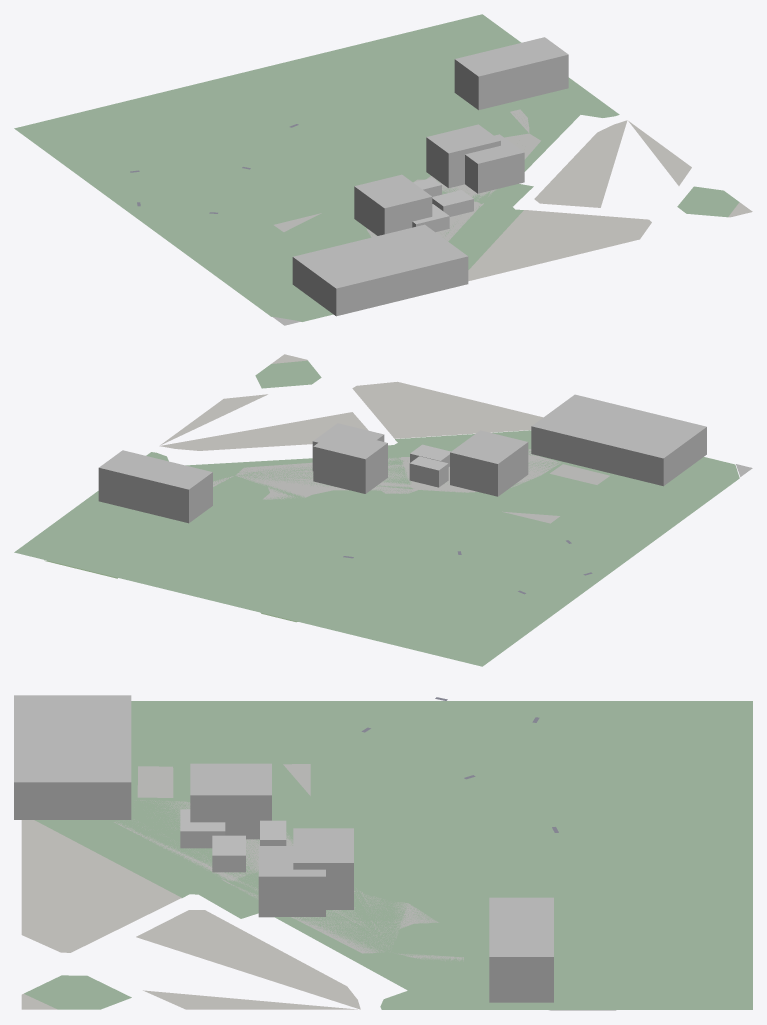
Rendered from 104_86_mid.glb.
3 views of the same model, one above another, from view 1: azimuth 30°, elevation 25°; view 2: azimuth 150°, elevation 25°; view 3: azimuth 270°, elevation 25° (orthographic). The views are drawn at different scales.
Size of the model in its own units: 500 by 36.6 by 505.
